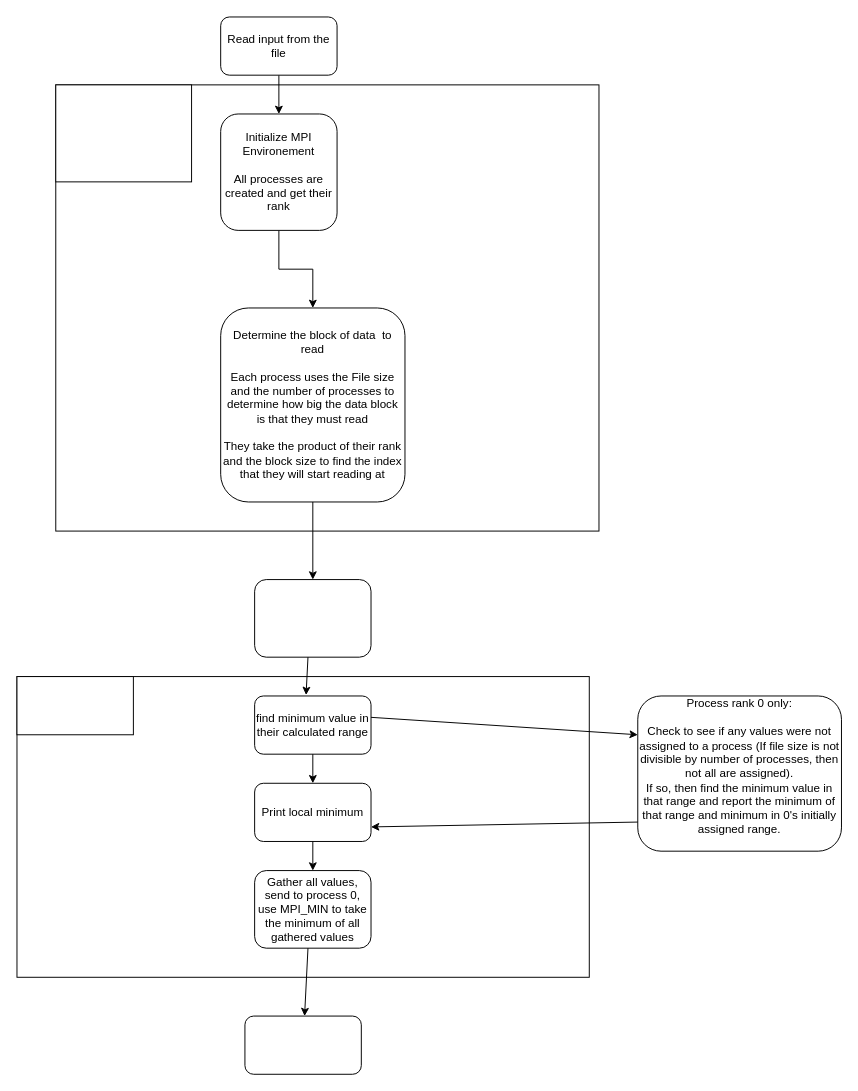
This 858x1091 diagram has some shape labels left out. Here are the shapes that lost their labels. From the top down, the box of each, then its label:
(55, 84, 192, 182): For all processes
(254, 579, 371, 657): Process rank 0 only: Broadcast the list of values to all processes
(16, 676, 133, 735): All processes
(244, 1015, 361, 1074): Process rank 0 only: Print global minimum value
